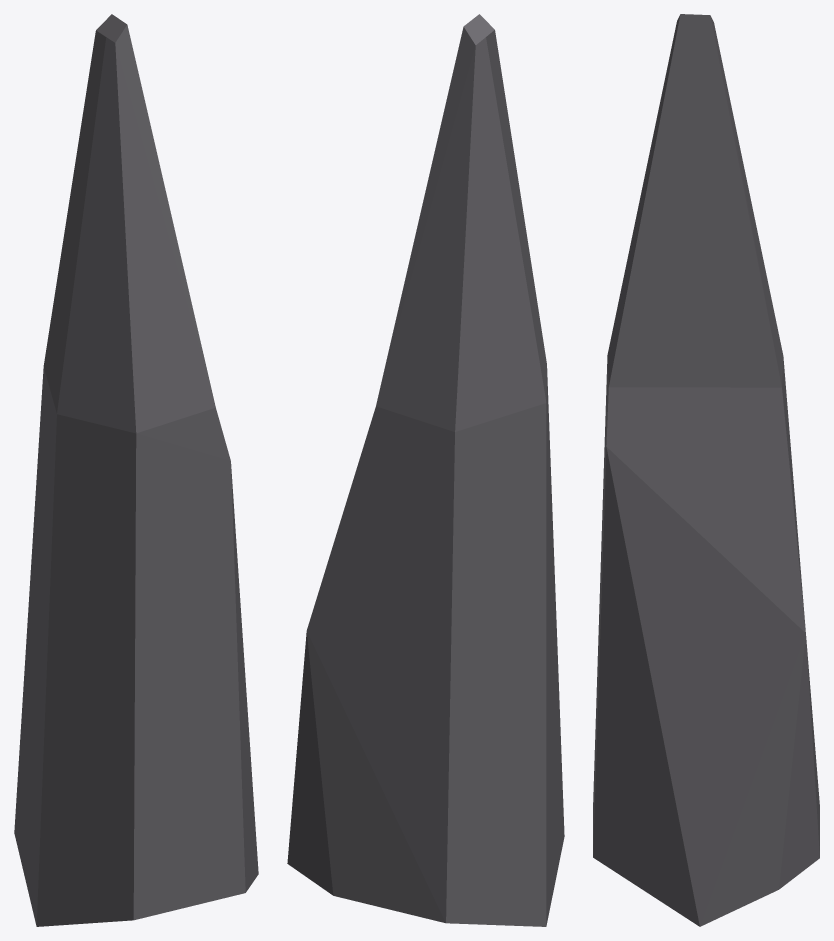
File: Rock_Sharp_s_03.fbx
3 views of the same model, side by side, from view 1: azimuth 30°, elevation 25°; view 2: azimuth 150°, elevation 25°; view 3: azimuth 270°, elevation 25° (orthographic). The views are drawn at different scales.
Parts seen in each view (by area): view 1: Rock_Sharp_s_03; view 2: Rock_Sharp_s_03; view 3: Rock_Sharp_s_03.
Part boxes in pixels (x1,y1,x2,y2): Rock_Sharp_s_03: (14, 14, 258, 926); Rock_Sharp_s_03: (287, 14, 564, 926); Rock_Sharp_s_03: (593, 14, 819, 926).
Size of the model in its own units: 0.2017 by 0.779 by 0.189.
